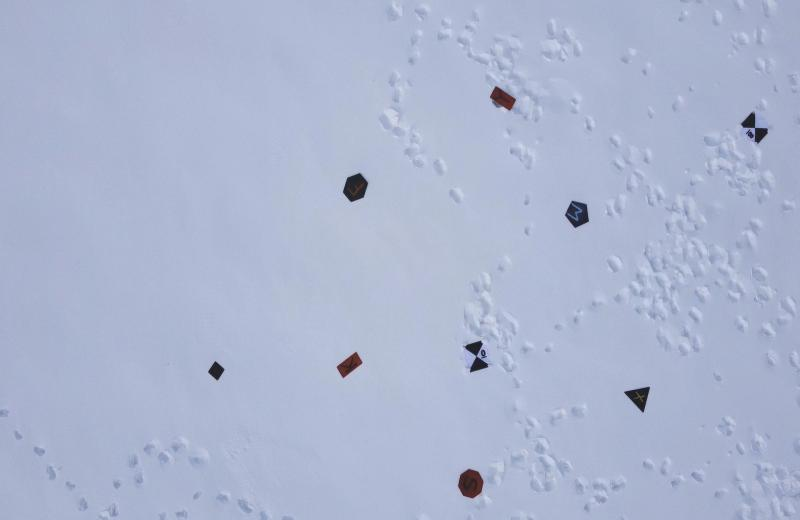Hexagon: (338, 172, 370, 201)
Octagon: (456, 466, 485, 500)
Pentagon: (563, 197, 592, 231)
Rectangle: (332, 351, 366, 382), (488, 83, 515, 116)
Square: (205, 360, 225, 381)
Triangle: (622, 379, 652, 417)
